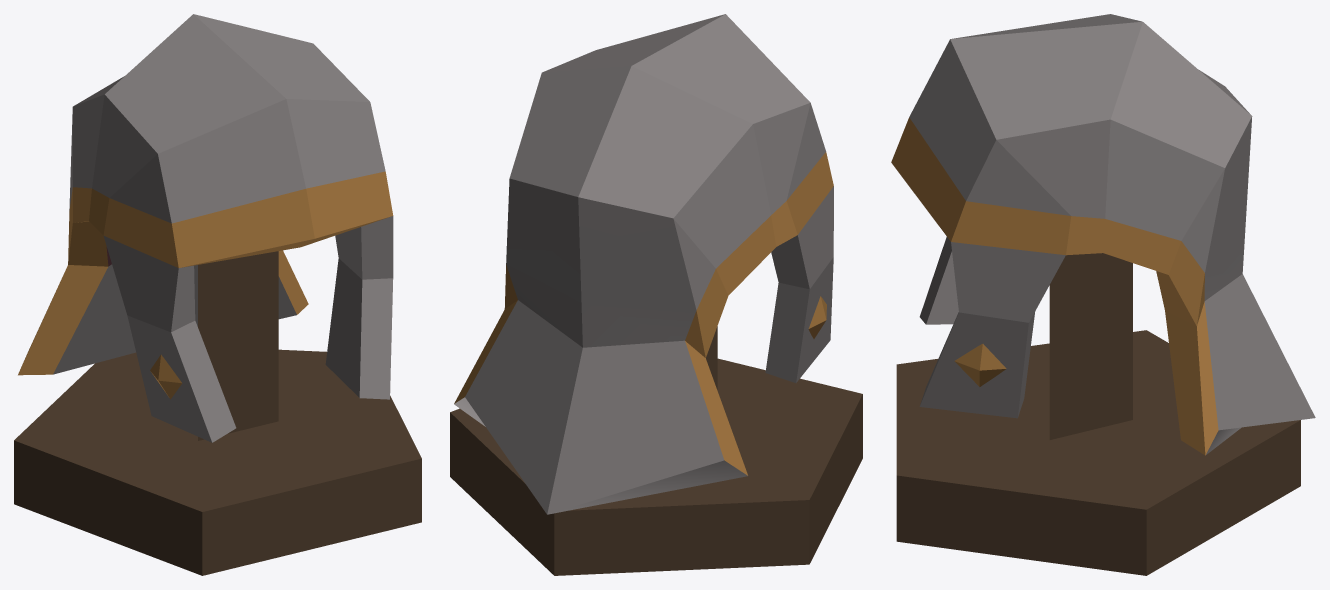
File: SM_Helmet_Stand_Roman_Empire.fbx
3 views of the same model, side by side, from view 1: azimuth 30°, elevation 25°; view 2: azimuth 150°, elevation 25°; view 3: azimuth 270°, elevation 25° (orthographic). The views are drawn at different scales.
Visible parts, largest first — view 1: SM_Helmet_Stand_Roman_Empire; view 2: SM_Helmet_Stand_Roman_Empire; view 3: SM_Helmet_Stand_Roman_Empire.
Boxes of the visible parts, <box> form: SM_Helmet_Stand_Roman_Empire: <box>14,14,421,575</box>; SM_Helmet_Stand_Roman_Empire: <box>450,14,862,575</box>; SM_Helmet_Stand_Roman_Empire: <box>891,14,1315,575</box>.
Bounding box in the file's own units: 0.2866 × 0.3455 × 0.2863.
